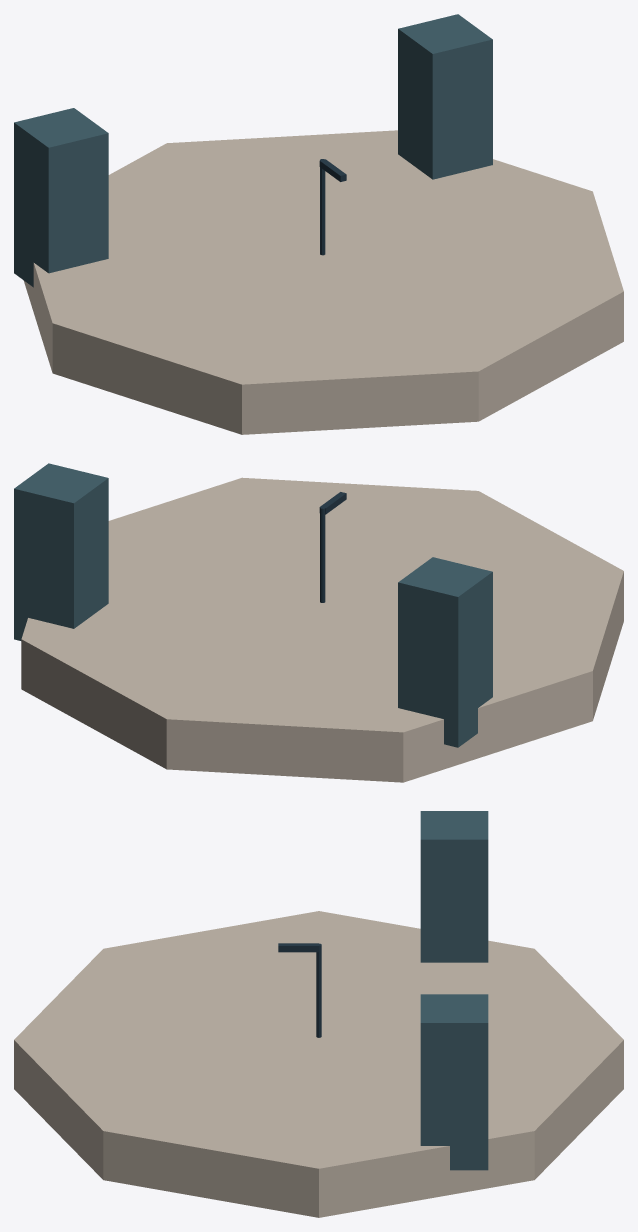
Rendered from bandstand.obj.
3 renders of one model, top to bottom at view 1: azimuth 30°, elevation 25°; view 2: azimuth 150°, elevation 25°; view 3: azimuth 270°, elevation 25°, orthographic. The views are drawn at different scales.
Visible parts, largest first — view 1: bandstand; view 2: bandstand; view 3: bandstand.
Part boxes in pixels (box(x1,y1,x2,y2)): bandstand: box(14, 14, 623, 434); bandstand: box(14, 463, 623, 782); bandstand: box(14, 811, 623, 1217).
Bounding box in the file's own units: 9 × 2.8 × 9.
